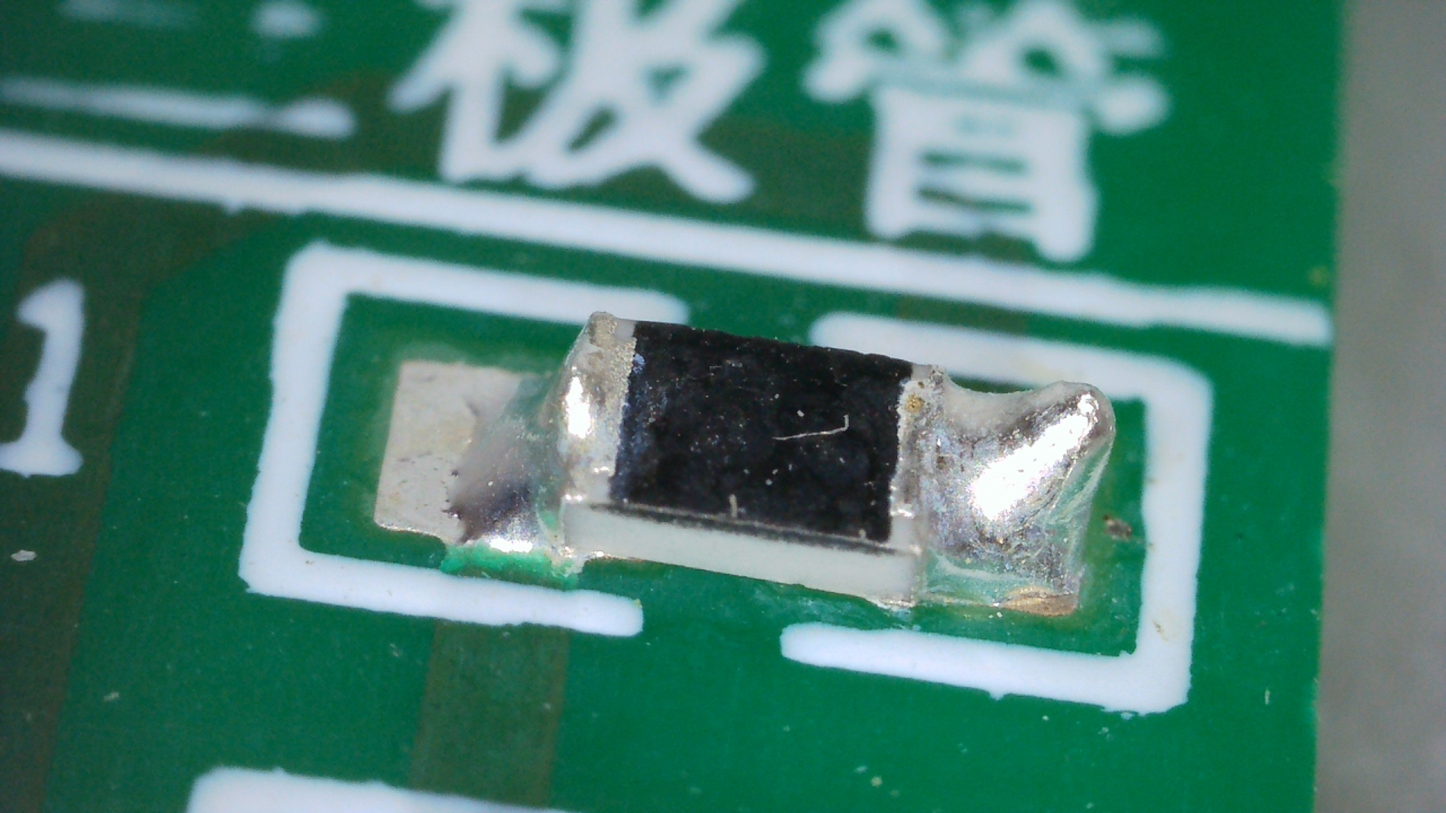NG: (447, 312, 635, 567), (901, 375, 1116, 595)
